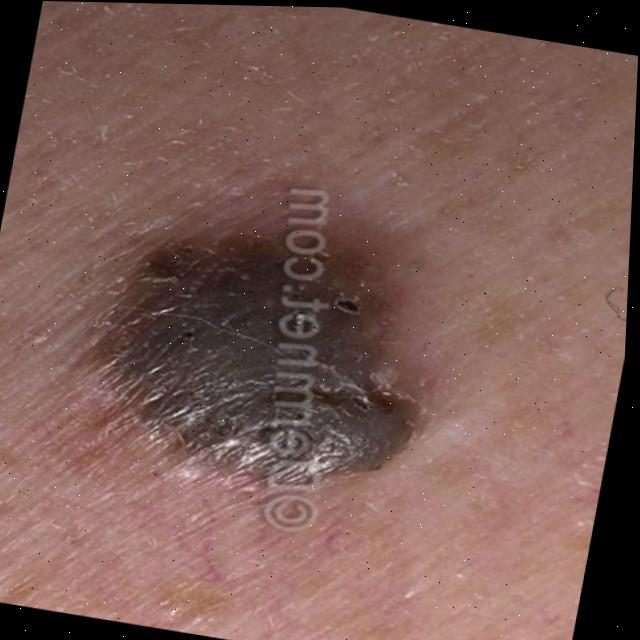Eczema: (51, 172, 551, 599)
